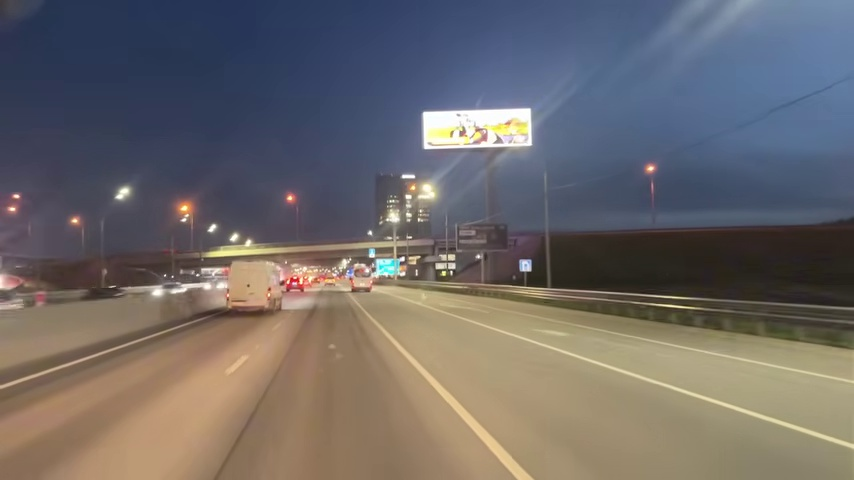acesa: (3, 193, 23, 217), (113, 184, 133, 204), (175, 200, 193, 220), (417, 183, 437, 201), (66, 213, 84, 230), (282, 190, 298, 208), (642, 161, 659, 177)
